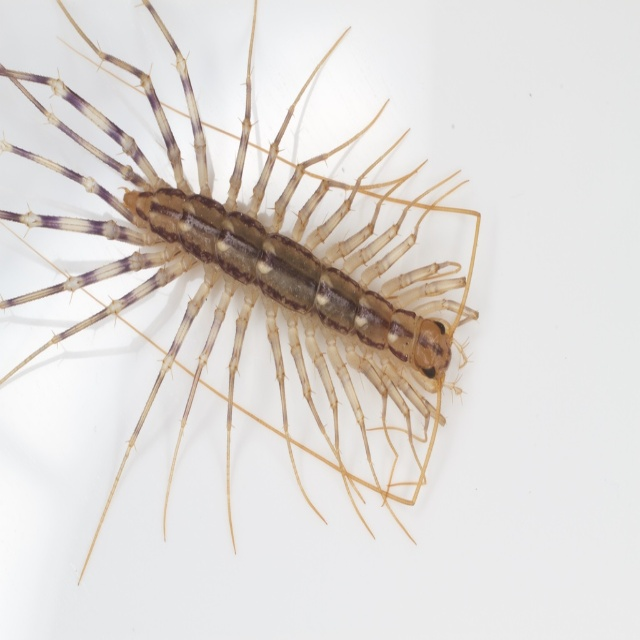Centipede: (0, 0, 481, 588)
